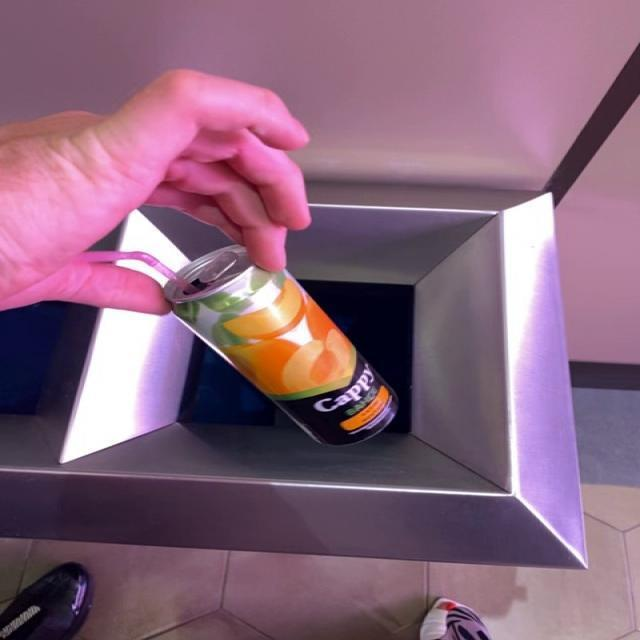Bin: (3, 184, 588, 568)
Metal: (164, 246, 399, 446)
